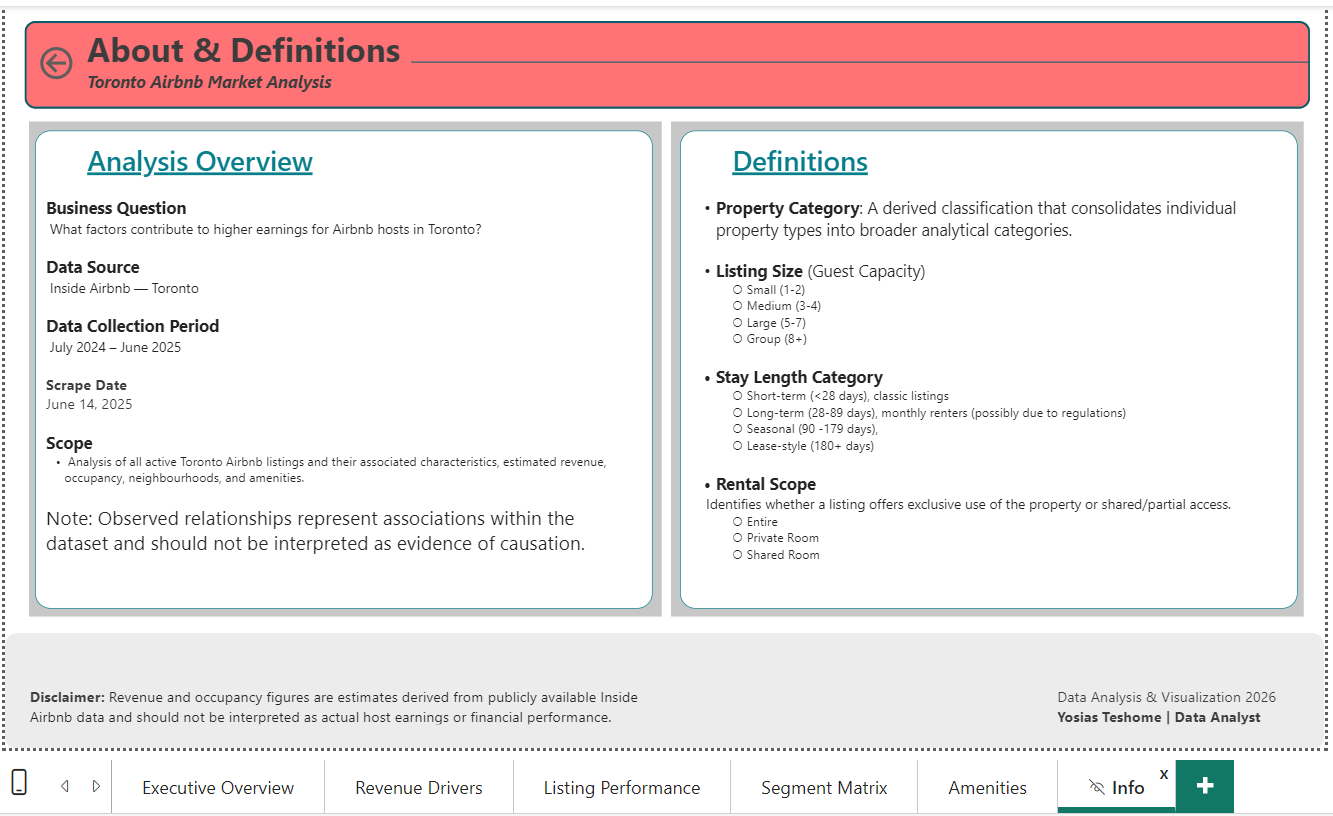

The dashboard page shown, as its layout file describes it:
{"tool":"powerbi","page":{"name":"Info","canvas":[1280,720],"ordinal":6},"visuals":[{"type":"shape","box":[646,105,614,493],"z":0},{"type":"shape","box":[23.2,105,614,493],"z":1000},{"type":"shape","box":[0,607.9,1280,113],"z":2000},{"type":"shape","box":[18.2,14.2,1247.6,85.1],"z":3000},{"type":"textbox","box":[59.6,14.9,334.6,89.4],"z":5000},{"type":"actionButton","box":[29.8,31.5,41.4,46.4],"z":6000},{"type":"textbox","box":[29.9,111,600.1,484],"z":7000},{"type":"textbox","box":[654.3,111,599,484],"z":8000},{"type":"textbox","box":[1015.4,654.3,250.1,47],"z":9000},{"type":"textbox","box":[18.2,654.3,622.8,47],"z":10000},{"type":"shape","box":[394.2,49.7,871.3,9.9],"z":11000}]}

Visuals, with their boxes on the page's 1280x720 design canvas (x1, y1, x2, y2). These are canvas units, not pixel positions in the 1333x816 screenshot, which may show the page scaled, cropped or inside an application window:
shape: BBox(646, 105, 1260, 598)
shape: BBox(23, 105, 637, 598)
shape: BBox(0, 608, 1280, 721)
shape: BBox(18, 14, 1266, 99)
textbox: BBox(60, 15, 394, 104)
actionButton: BBox(30, 32, 71, 78)
textbox: BBox(30, 111, 630, 595)
textbox: BBox(654, 111, 1253, 595)
textbox: BBox(1015, 654, 1266, 701)
textbox: BBox(18, 654, 641, 701)
shape: BBox(394, 50, 1266, 60)
